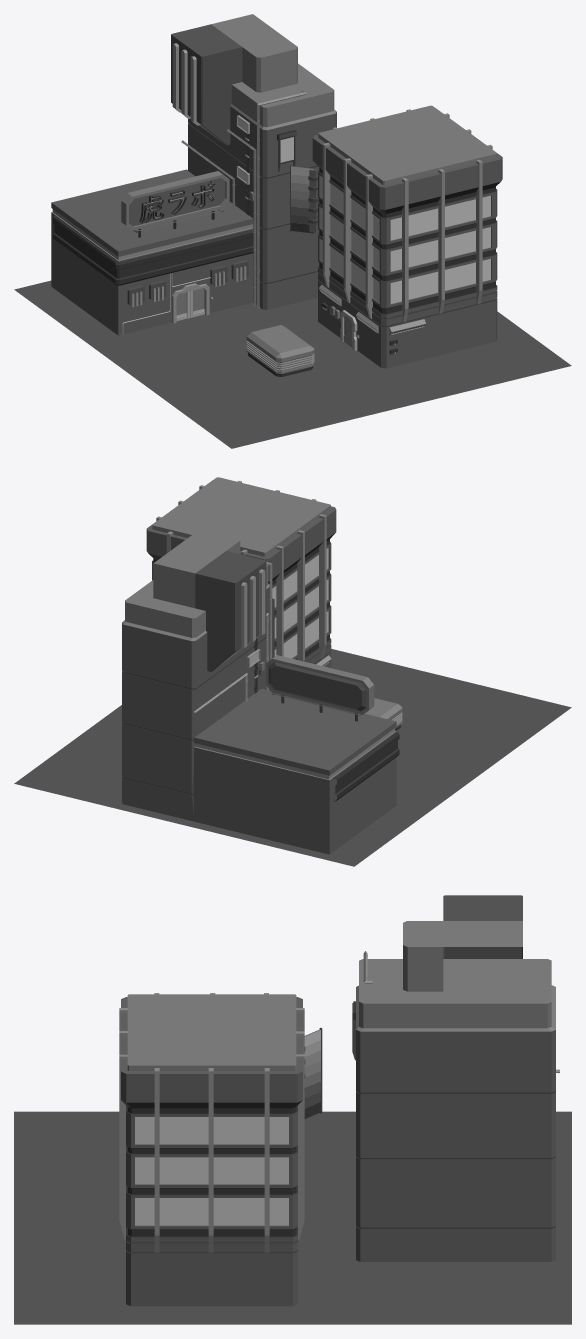
File: environment_test.FBX
3 renders of one model, top to bottom at view 1: azimuth 30°, elevation 25°; view 2: azimuth 150°, elevation 25°; view 3: azimuth 270°, elevation 25°, orthographic. The views are drawn at different scales.
Visible parts, largest first — view 1: ground, building_4st_01, building_4s_02, building_2s_01, building_4st_01_window, building_4st_01_metal, building_2s_metal, building_4s_02_metal, sign_tigerlab, heatsink_large, sign_tigerlab_light, wall_sign_pane (+2 smaller); view 2: building_4s_02, ground, building_2s_01, building_4st_01, sign_tigerlab, building_4s_02_metal, building_4st_01_metal, building_4st_01_window, building_2s_metal, heatsink_large; view 3: building_4s_02, ground, building_4st_01, building_4s_02_metal, building_4st_01_window, building_4st_01_metal, wall_sign_pane.
Part boxes in pixels (x1,y1,x2,y2): ground: (14,280,571,448); building_4st_01: (312,105,502,368); building_4s_02: (171,14,336,309); building_2s_01: (51,169,253,335); building_4st_01_window: (320,176,490,303); building_4st_01_metal: (322,109,492,322); building_2s_metal: (53,215,253,285); building_4s_02_metal: (172,43,334,127); sign_tigerlab: (121,171,229,230); heatsink_large: (246,325,314,376); sign_tigerlab_light: (129,178,225,226); wall_sign_pane: (291,166,313,233); building_4s_02: (122,530,269,821); ground: (14,649,571,866); building_2s_01: (194,688,396,854); building_4st_01: (146,477,336,667); sign_tigerlab: (266,655,374,714); building_4s_02_metal: (125,565,268,651); building_4st_01_metal: (156,481,326,661); building_4st_01_window: (272,548,328,658); building_2s_metal: (333,731,399,801); heatsink_large: (365,698,402,730); building_4s_02: (356,895,555,1261); ground: (14,1111,571,1324); building_4st_01: (121,994,302,1306); building_4s_02_metal: (359,959,551,1028); building_4st_01_window: (135,1117,288,1225); building_4st_01_metal: (119,993,304,1252); wall_sign_pane: (304,1030,320,1118).
Bounding box in the file's own units: 1384 × 921 × 1533.
